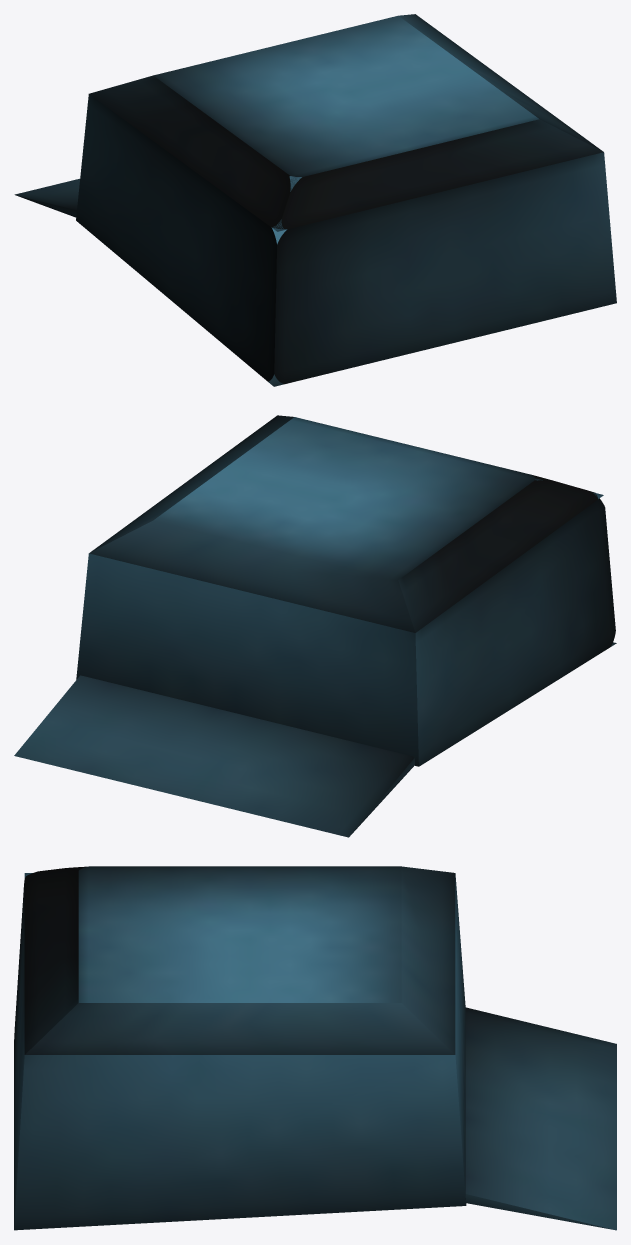
The model's file is capblue.obj.
The picture shows the model from 3 angles, top to bottom: view 1: azimuth 30°, elevation 25°; view 2: azimuth 150°, elevation 25°; view 3: azimuth 270°, elevation 25°; orthographic projection. The views are drawn at different scales.
Parts seen in each view (by area): view 1: headModel1, headModel2, headModel0; view 2: headModel1, headModel2, headModel0; view 3: headModel2, headModel1, headModel0.
Part boxes in pixels (x1=…): headModel1: x1=76, y1=94, x2=616, y2=386; headModel2: x1=89, y1=14, x2=603, y2=231; headModel0: x1=14, y1=178, x2=79, y2=217; headModel1: x1=76, y1=478, x2=616, y2=766; headModel2: x1=89, y1=415, x2=603, y2=632; headModel0: x1=14, y1=675, x2=415, y2=837; headModel2: x1=24, y1=866, x2=455, y2=1054; headModel1: x1=14, y1=873, x2=466, y2=1230; headModel0: x1=465, y1=1007, x2=616, y2=1230.
Bounding box in the file's own units: 8.4 × 4.15 × 11.2.
